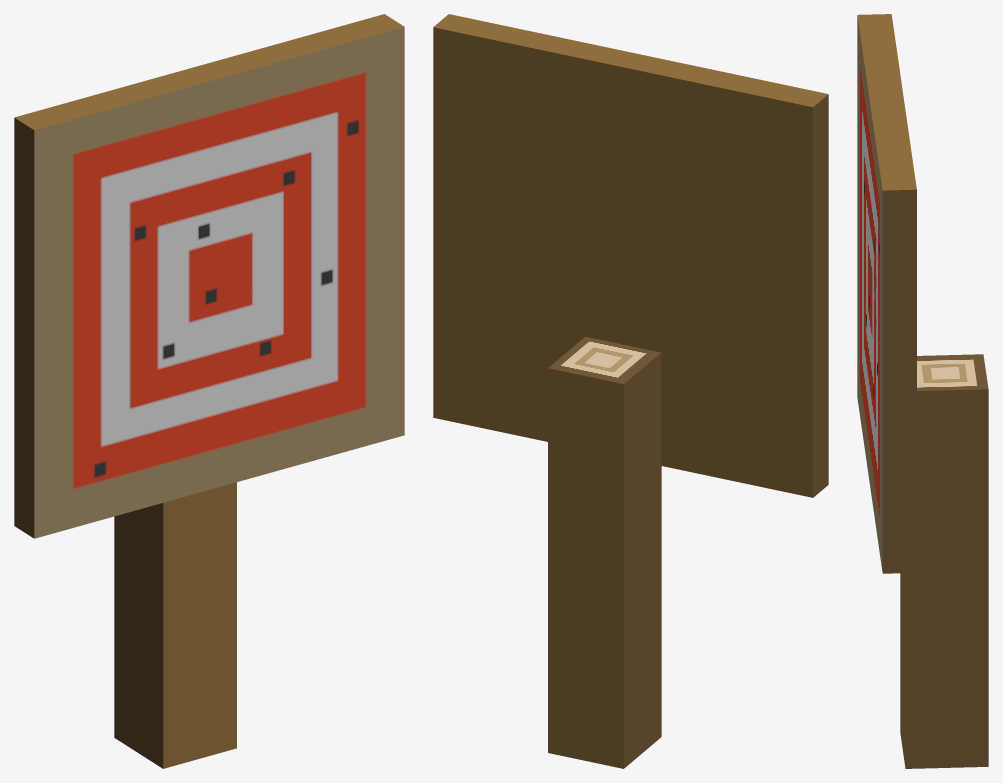
File: Target_root.fbx
3 views of the same model, side by side, from view 1: azimuth 30°, elevation 25°; view 2: azimuth 150°, elevation 25°; view 3: azimuth 270°, elevation 25° (orthographic). The views are drawn at different scales.
Visible parts, largest first — view 1: Target_sh_1, Target_sh_5, Target_sh_3, Target_sh_9, Target_sh_6, Target_sh_4, Target_sh_8, Target_sh_2; view 2: Target_sh_1, Target_sh_5, Target_sh_9, Target_sh_6, Target_sh_3, Target_sh_4, Target_sh_2, Target_sh_7, Target_sh_8; view 3: Target_sh_8, Target_sh_6, Target_sh_4, Target_sh_7, Target_sh_3, Target_sh_1, Target_sh_5, Target_sh_2, Target_sh_9.
Boxes of the visible parts, x1,y1,x2,y2 form: Target_sh_1: (14, 81, 260, 466); Target_sh_5: (14, 159, 221, 538); Target_sh_3: (237, 131, 404, 430); Target_sh_9: (114, 492, 201, 768); Target_sh_6: (143, 14, 404, 140); Target_sh_4: (221, 252, 404, 486); Target_sh_8: (196, 482, 236, 759); Target_sh_2: (187, 111, 355, 202); Target_sh_1: (566, 67, 828, 388); Target_sh_5: (661, 122, 828, 497); Target_sh_9: (582, 389, 661, 768); Target_sh_6: (433, 14, 700, 133); Target_sh_3: (433, 138, 580, 356); Target_sh_4: (433, 236, 560, 441); Target_sh_2: (433, 83, 674, 212); Target_sh_7: (548, 336, 660, 518); Target_sh_8: (548, 450, 587, 760); Target_sh_8: (902, 439, 988, 768); Target_sh_6: (866, 74, 916, 295); Target_sh_4: (870, 394, 916, 573); Target_sh_7: (917, 354, 988, 468); Target_sh_3: (871, 250, 916, 444); Target_sh_1: (857, 14, 900, 466); Target_sh_5: (857, 43, 870, 484); Target_sh_2: (868, 114, 916, 298); Target_sh_9: (900, 573, 902, 747).
Size of the model in its own units: 143 by 246 by 45.
